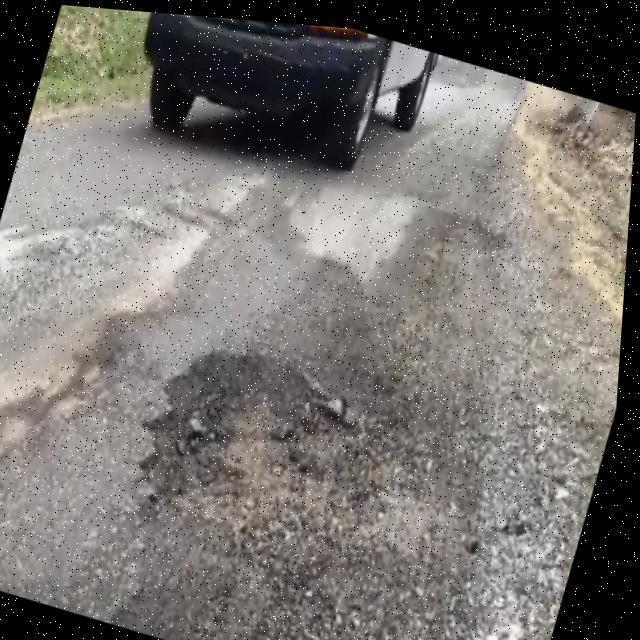Pothole: (138, 350, 372, 538)
